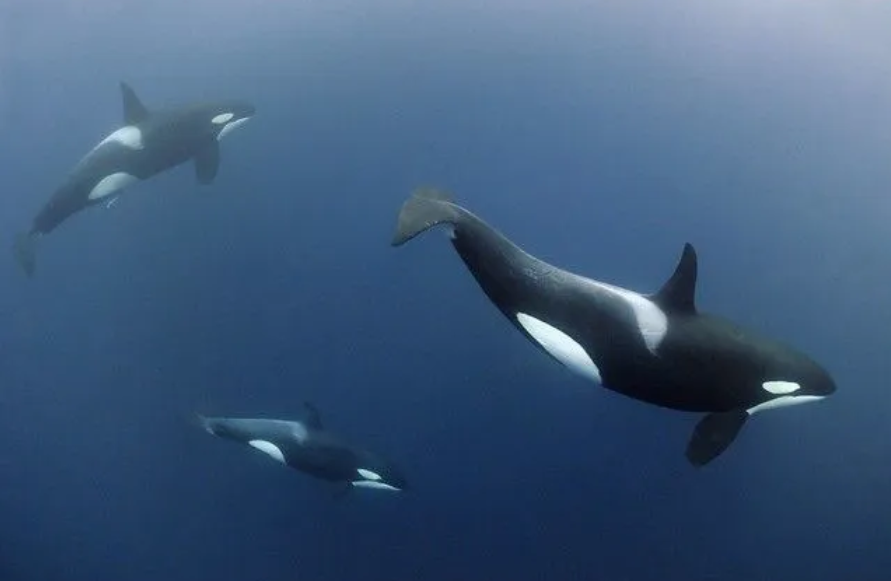Orca whale: (383, 178, 842, 467), (4, 74, 259, 286), (170, 390, 415, 504)
